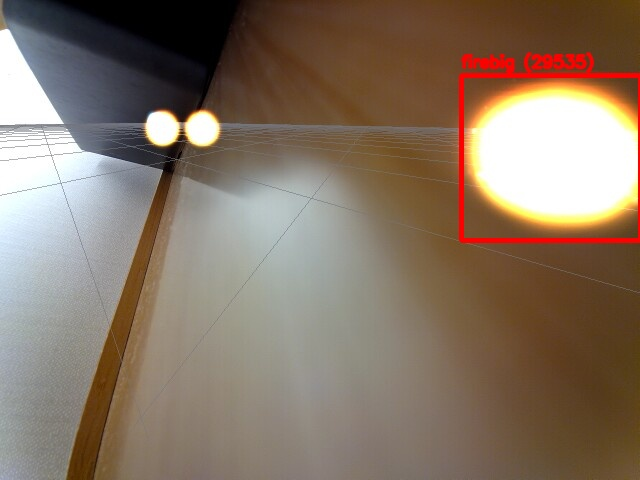firebig: (461, 75, 640, 240)
